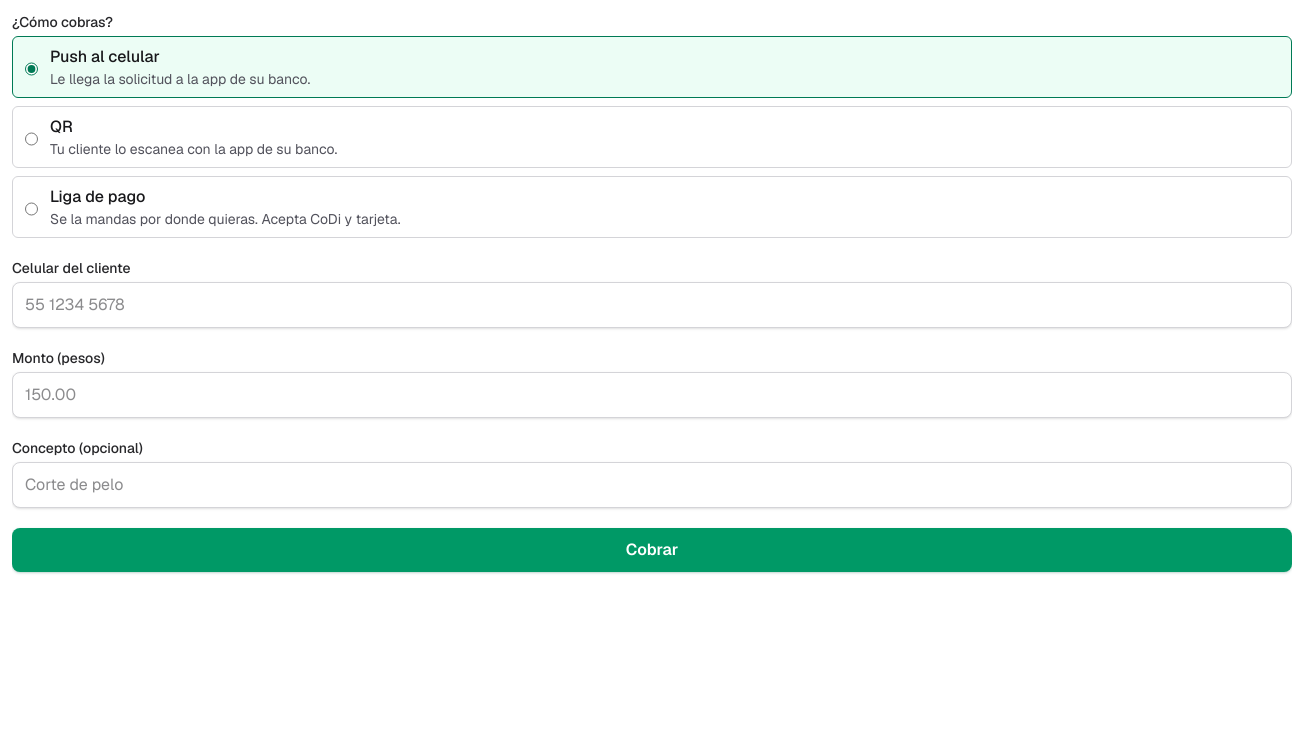
NewChargeForm › muestra los errores y conserva lo escrito
Type "123" into the field labelled "Celular del cliente" at (652, 305), box [12, 282, 1292, 328]
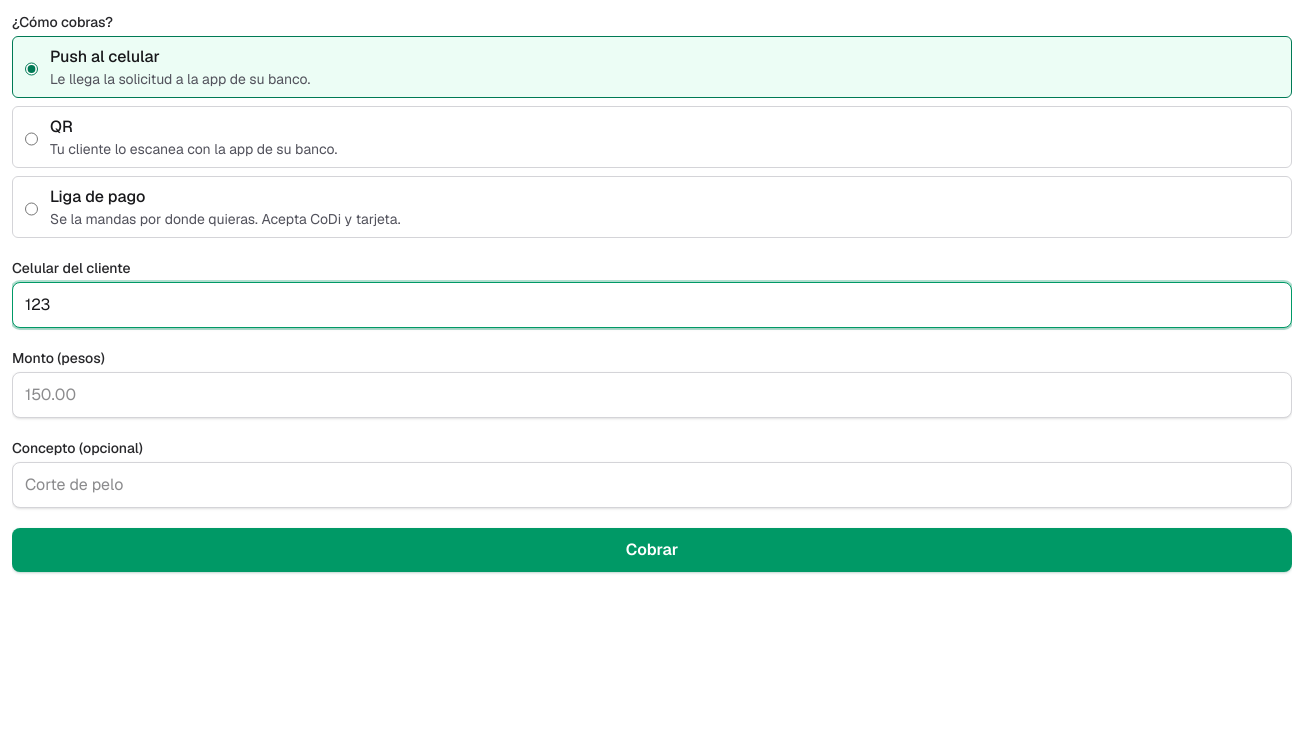
Type "150" into the field labelled "Monto (pesos)" at (652, 395), box [12, 372, 1292, 418]
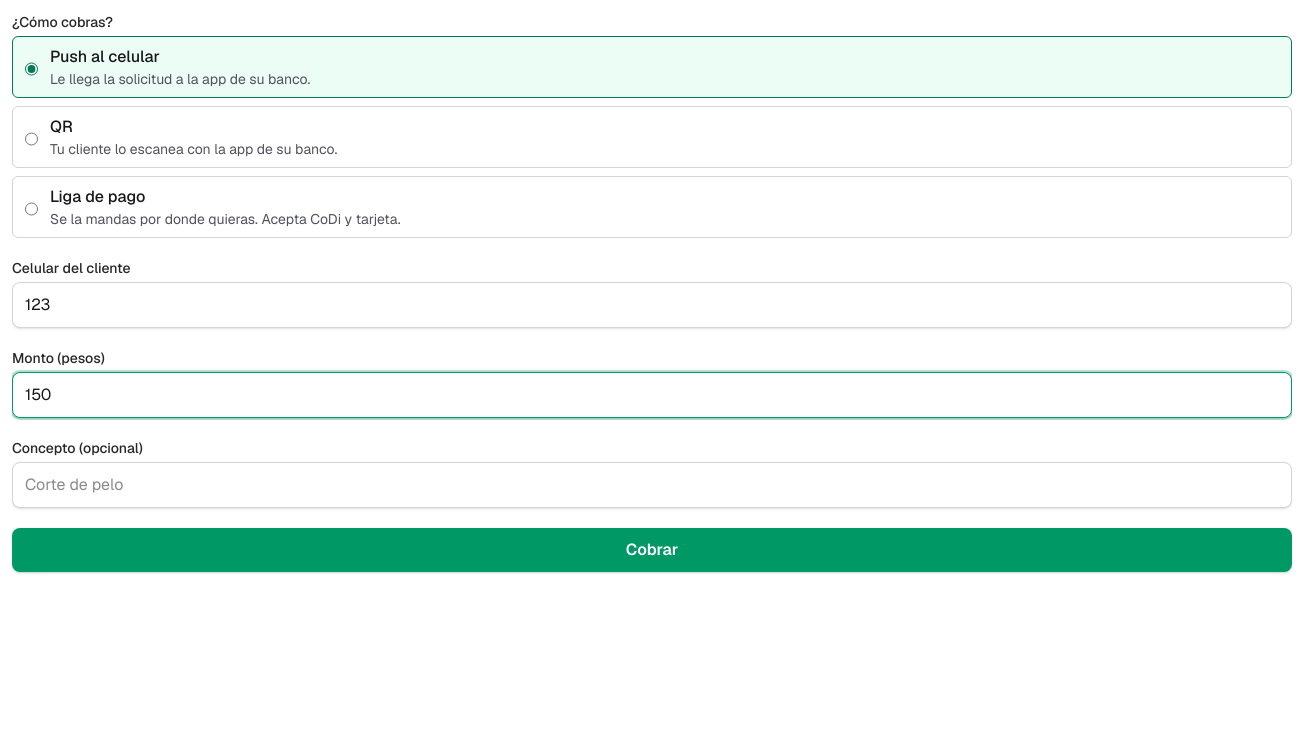
Click the button "Cobrar" at (652, 550), box [12, 528, 1292, 572]
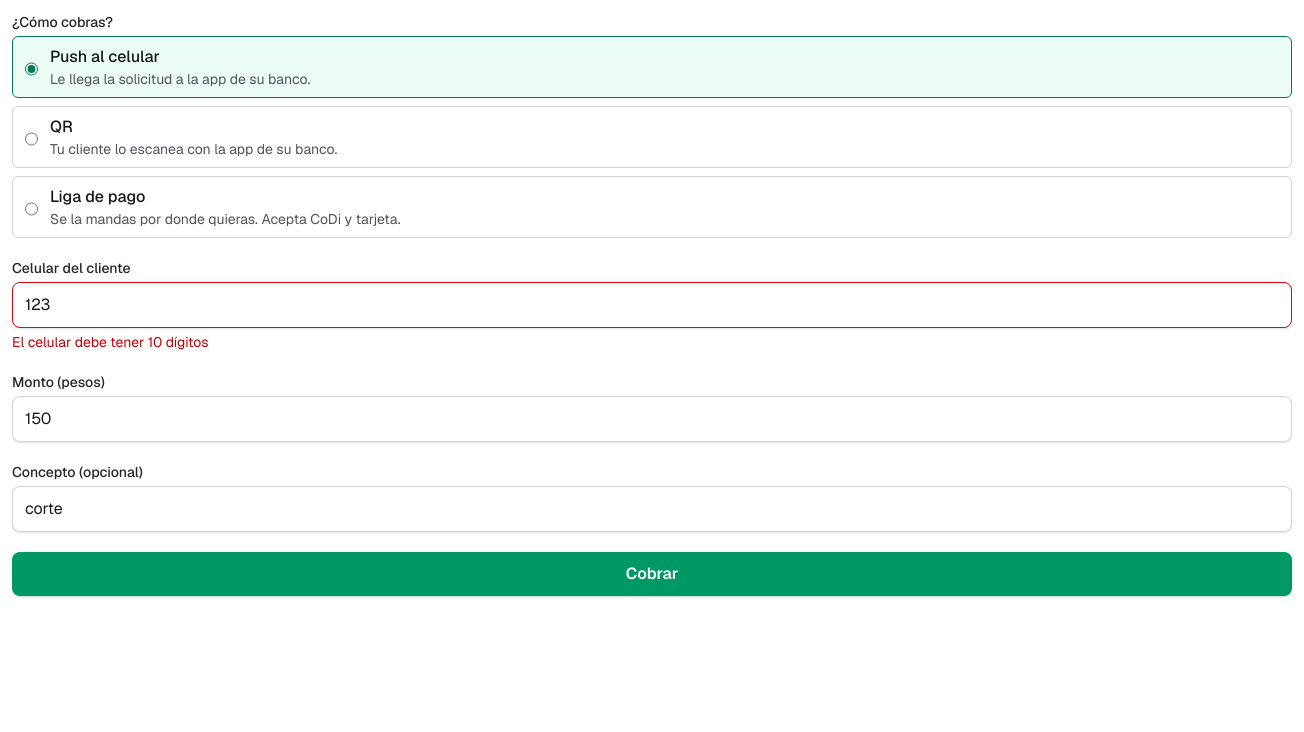
Check: the text "El celular debe tener 10 dígitos" is shown, box [12, 333, 208, 351]
Check: the field labelled "Concepto (opcional)" holds "corte", box [12, 486, 1292, 532]
